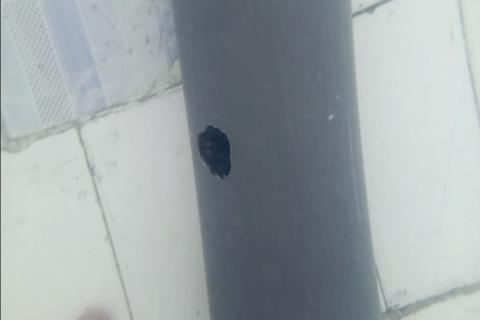kebocoran: (196, 121, 233, 180)
